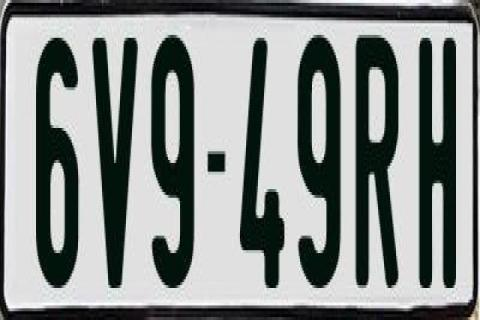0: (148, 35, 192, 305), (34, 29, 78, 297), (240, 38, 284, 306), (294, 29, 340, 282)
H: (419, 38, 461, 306)
R: (352, 35, 396, 305)
V: (92, 32, 138, 288)
